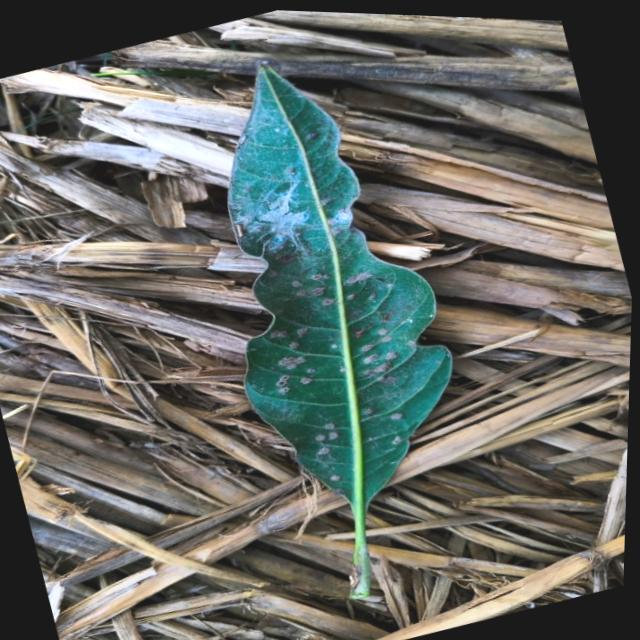Powdery Mildew: (255, 191, 313, 246)
